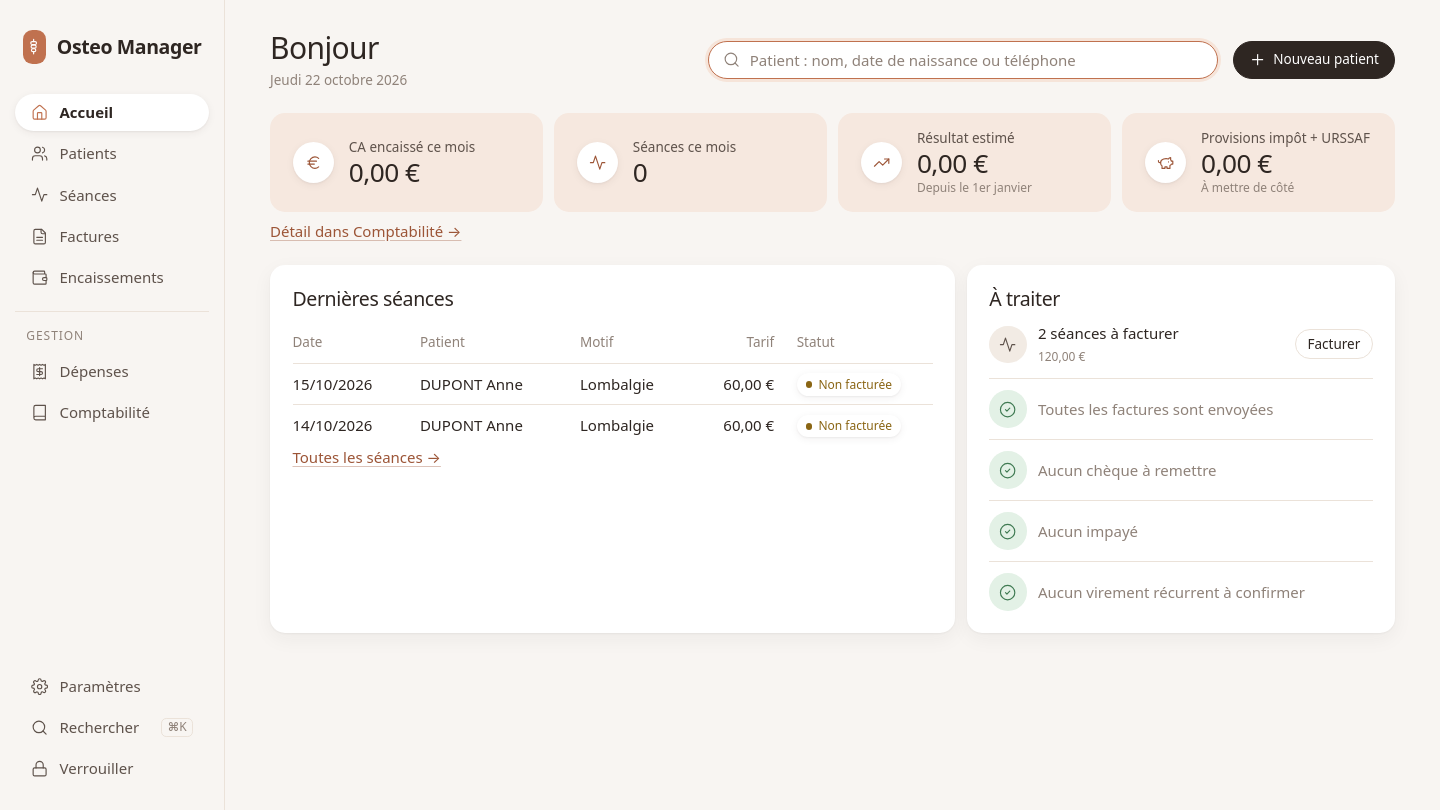
it: les séances non facturées se déplient et se valident sur place
Click the button with aria-label "Facturer : 2 séances à facturer": (1334, 344) left=1295, top=329, right=1372, bottom=359
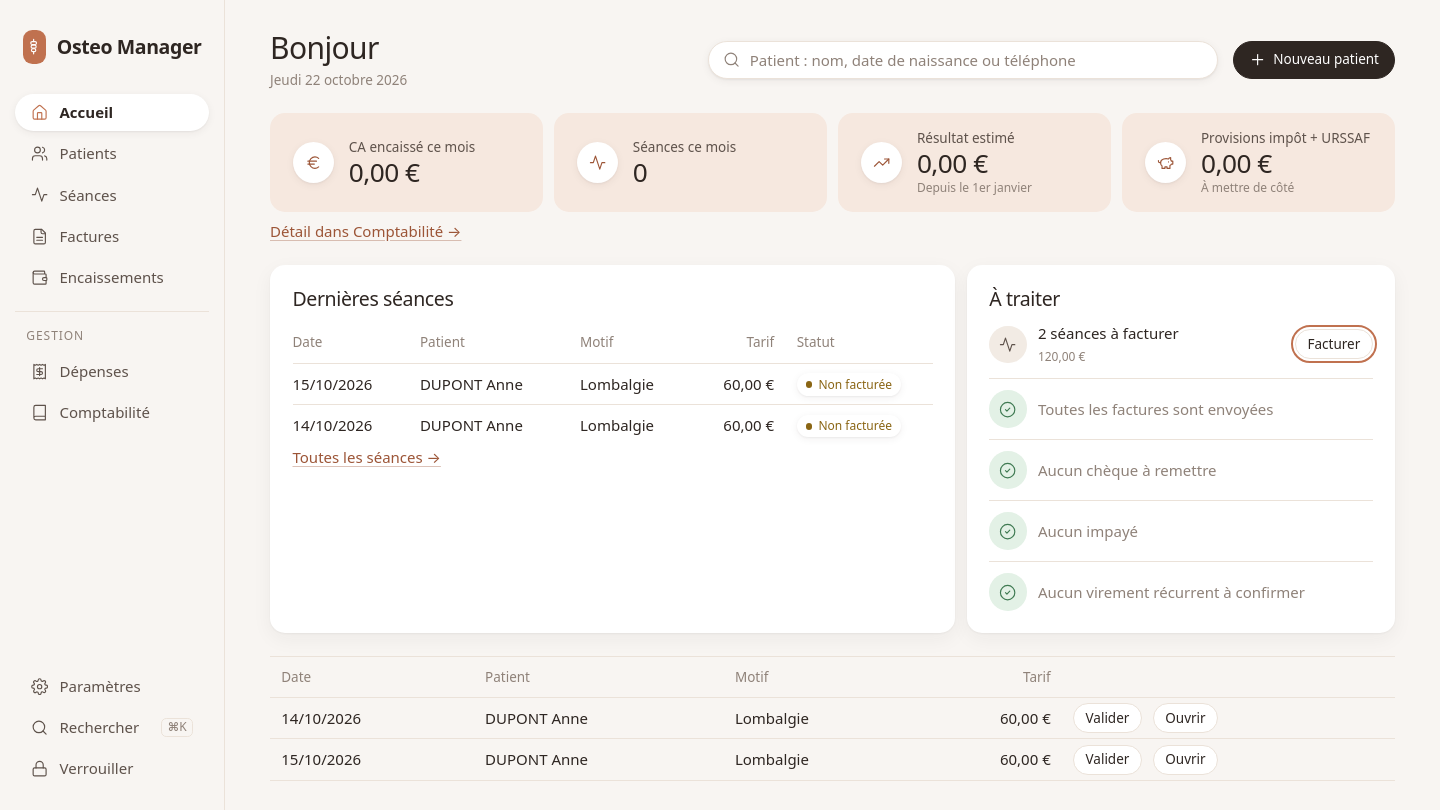
Now the 3rd text "DUPONT Anne" is shown, box left=474, top=698, right=724, bottom=739
Click the 1st button "Valider": (1108, 718) left=1073, top=703, right=1142, bottom=733
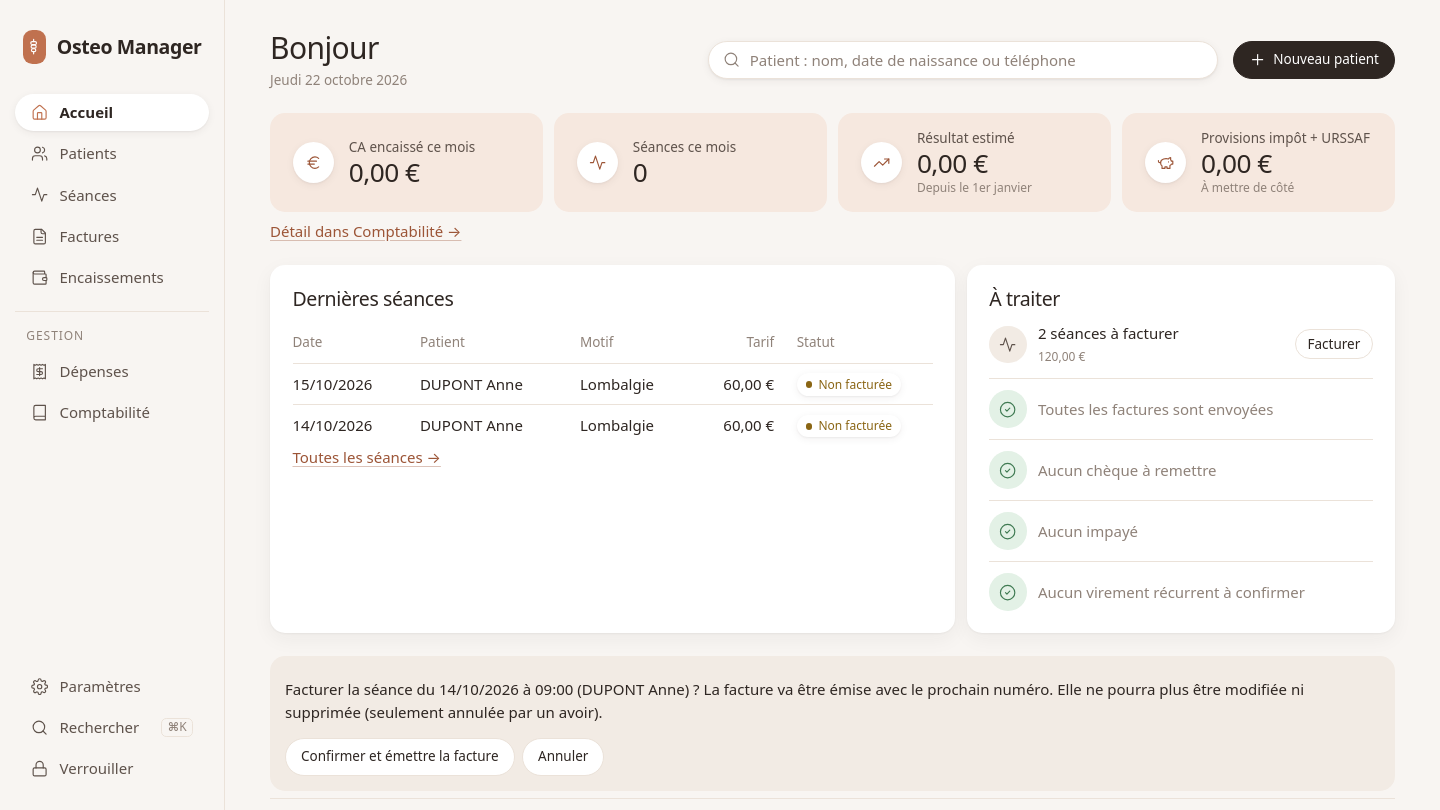
Click the button "Confirmer et émettre la facture": (400, 757) left=285, top=738, right=514, bottom=776
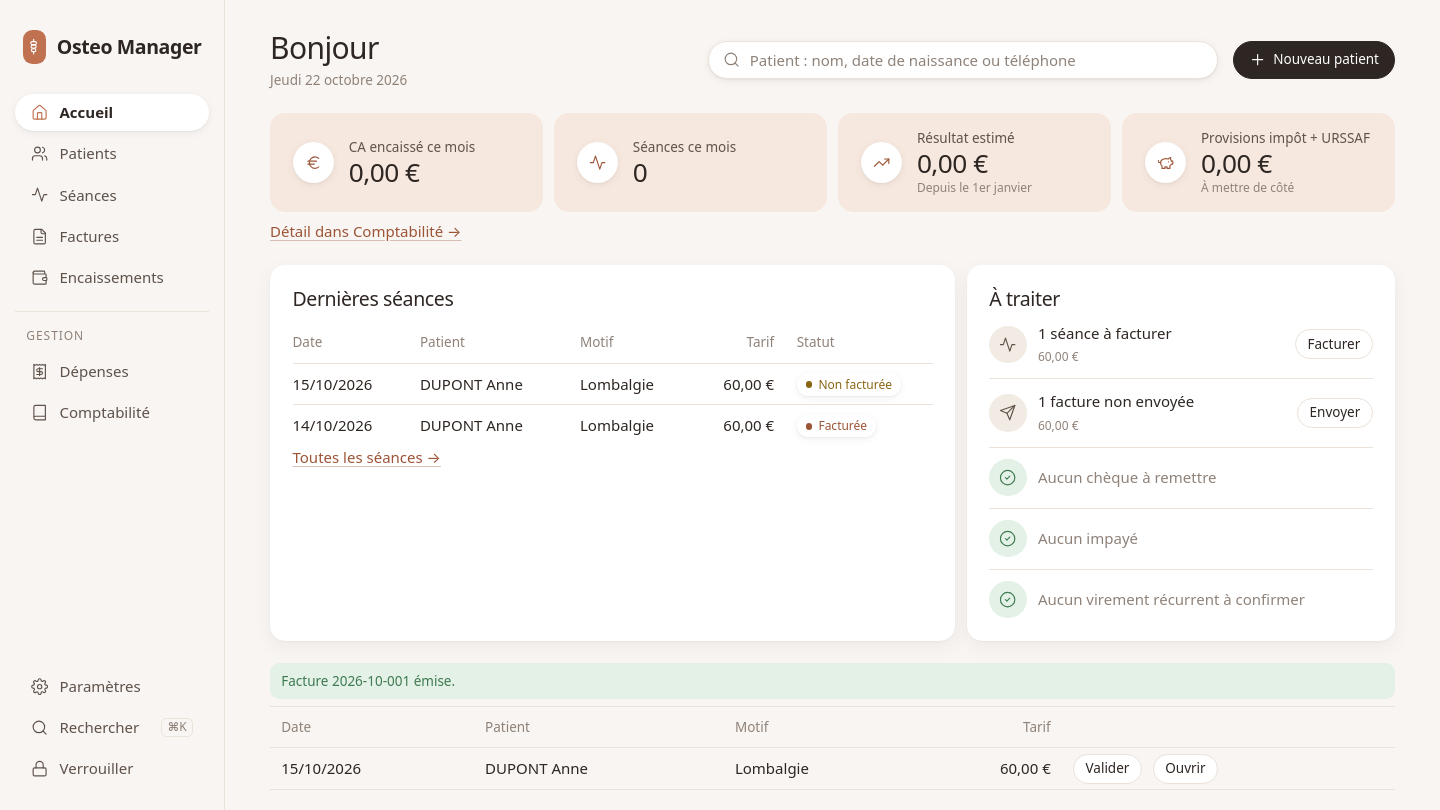
Expected: the button with aria-label "Facturer : 1 séance à facturer" is shown, left=1295, top=329, right=1372, bottom=359
Now the message reads "Facture 2026-10-001 émise.", box left=281, top=672, right=455, bottom=690
